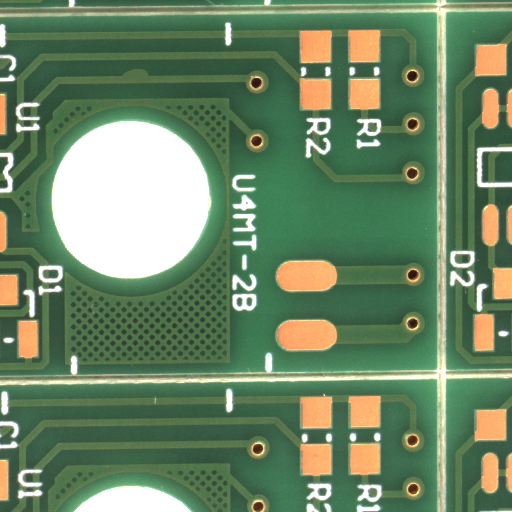Spur: (134, 73, 171, 87)
